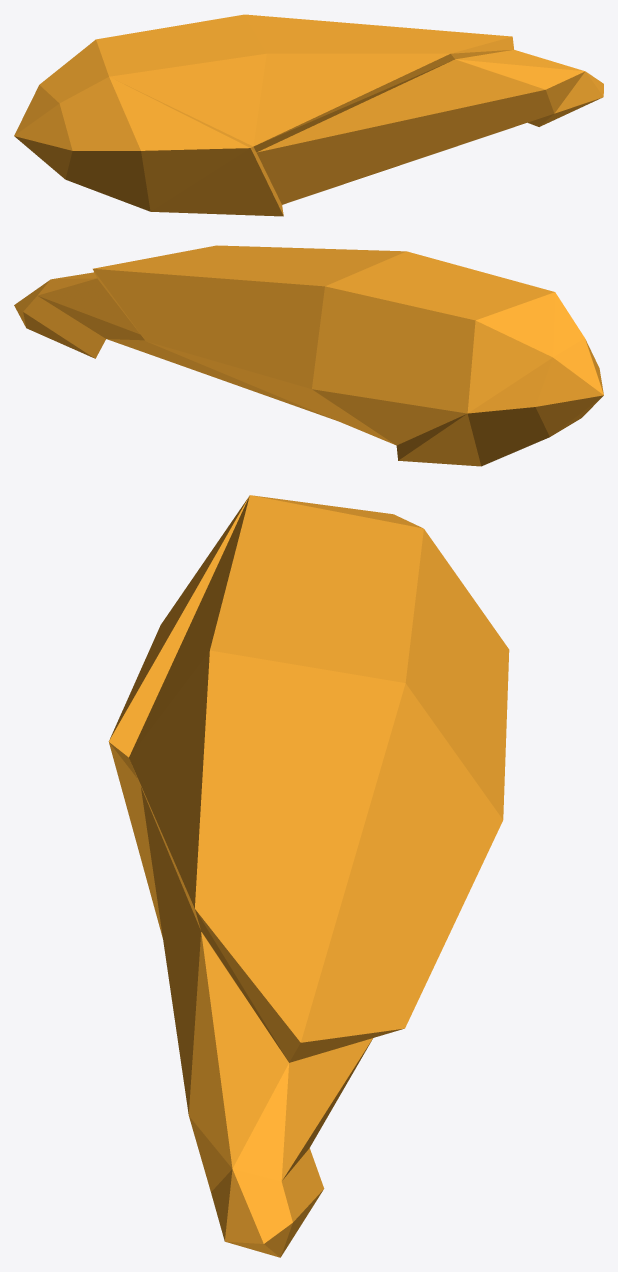
The model's file is SM_Corn_B.fbx.
The picture shows the model from 3 angles, top to bottom: view 1: azimuth 30°, elevation 25°; view 2: azimuth 150°, elevation 25°; view 3: azimuth 270°, elevation 25°; orthographic projection. The views are drawn at different scales.
Visible parts, largest first — view 1: corn-b; view 2: corn-b; view 3: corn-b.
Boxes of the visible parts, x1,y1,x2,y2 form: corn-b: (14,14,603,216); corn-b: (14,245,603,466); corn-b: (108,495,509,1257).
Bounding box in the file's own units: 0.3851 × 0.1058 × 0.1175.
